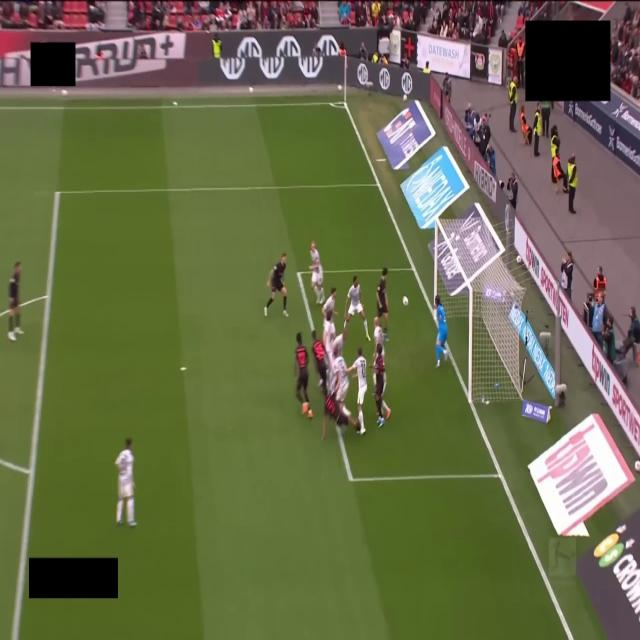ball: (402, 296, 408, 306)
player: (116, 439, 136, 527), (344, 276, 370, 341), (348, 348, 367, 434), (322, 394, 358, 439), (264, 253, 288, 316), (372, 344, 390, 427), (295, 333, 312, 417), (8, 262, 24, 342), (333, 341, 349, 415), (312, 330, 327, 395), (323, 312, 335, 392), (310, 241, 324, 303), (435, 296, 447, 367), (376, 268, 388, 339), (332, 332, 344, 381), (322, 288, 336, 317), (374, 318, 384, 357)
